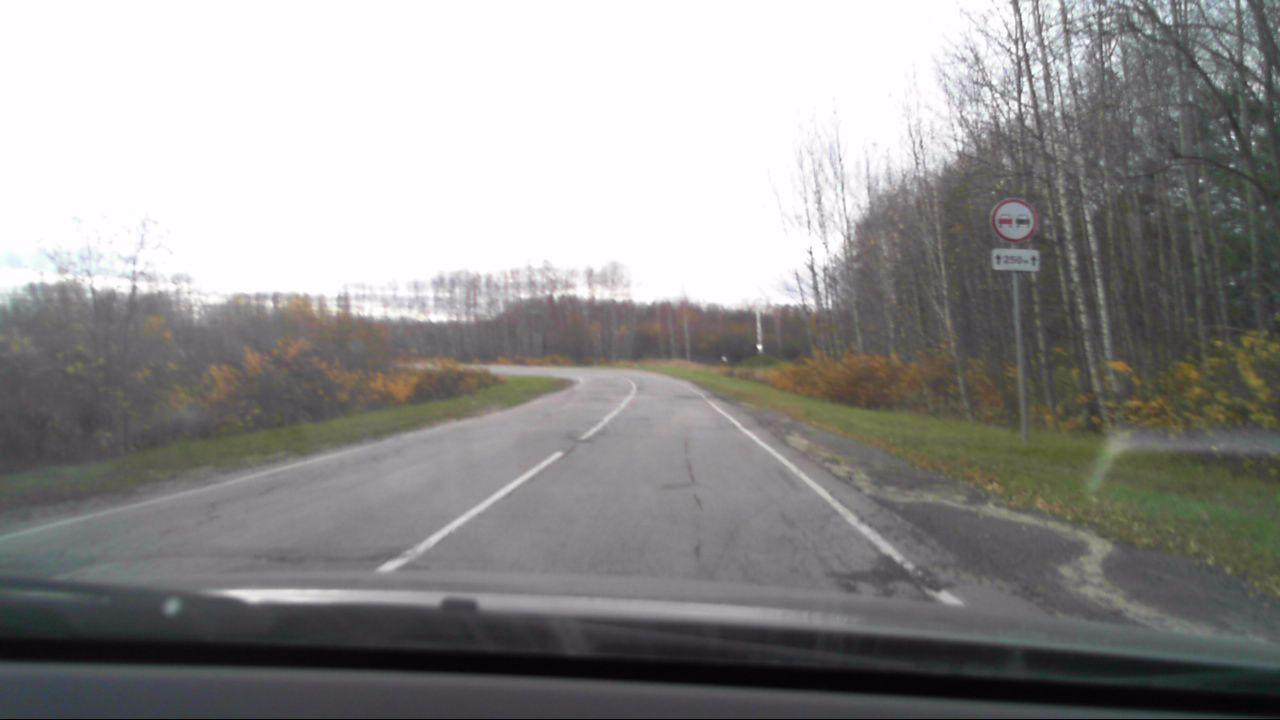3_20: (991, 194, 1039, 240)
8_2_1: (991, 249, 1040, 273)
